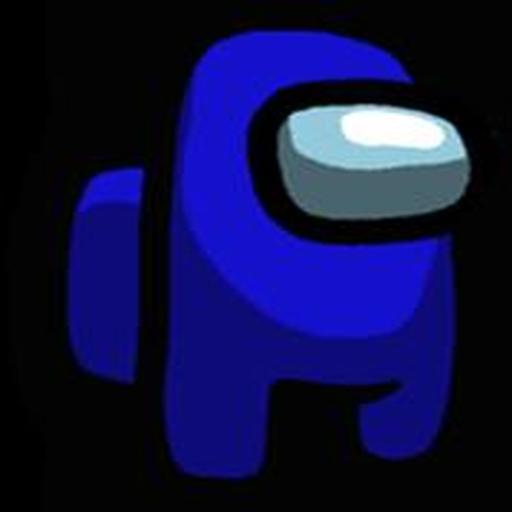Crewmate: (62, 25, 473, 479)
